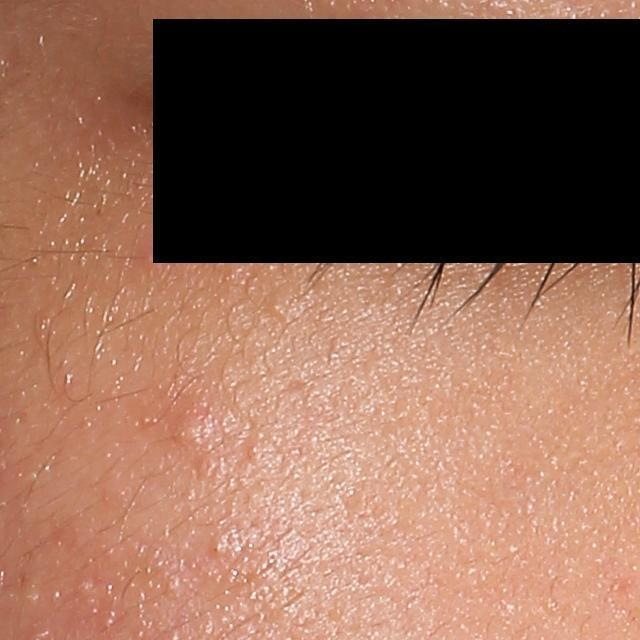comedo: (207, 520, 252, 567), (169, 413, 213, 450)
